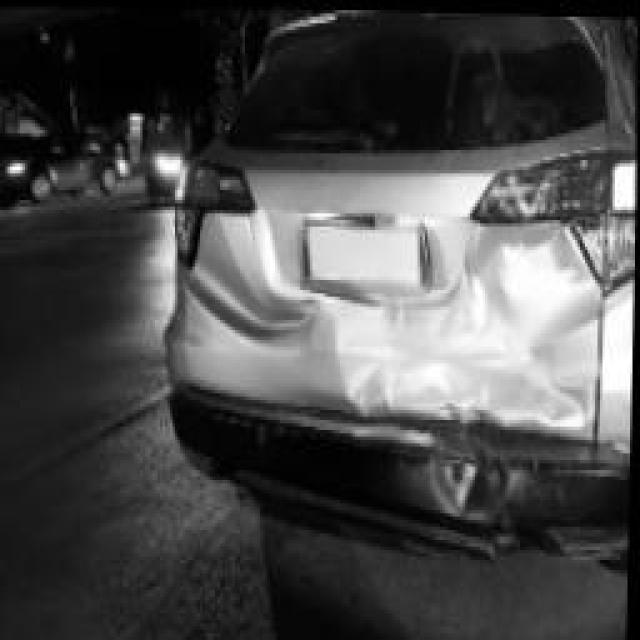Dickey: (230, 197, 614, 419)
